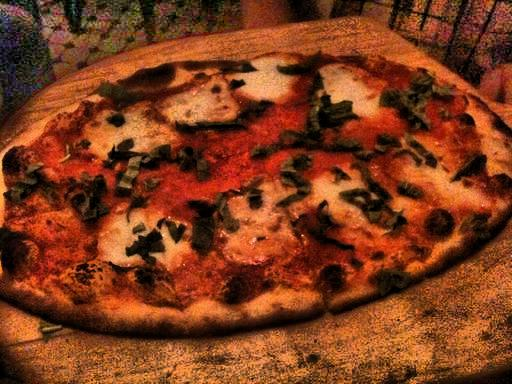pizza: (8, 61, 512, 334)
